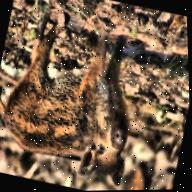boar: (0, 2, 155, 189)
